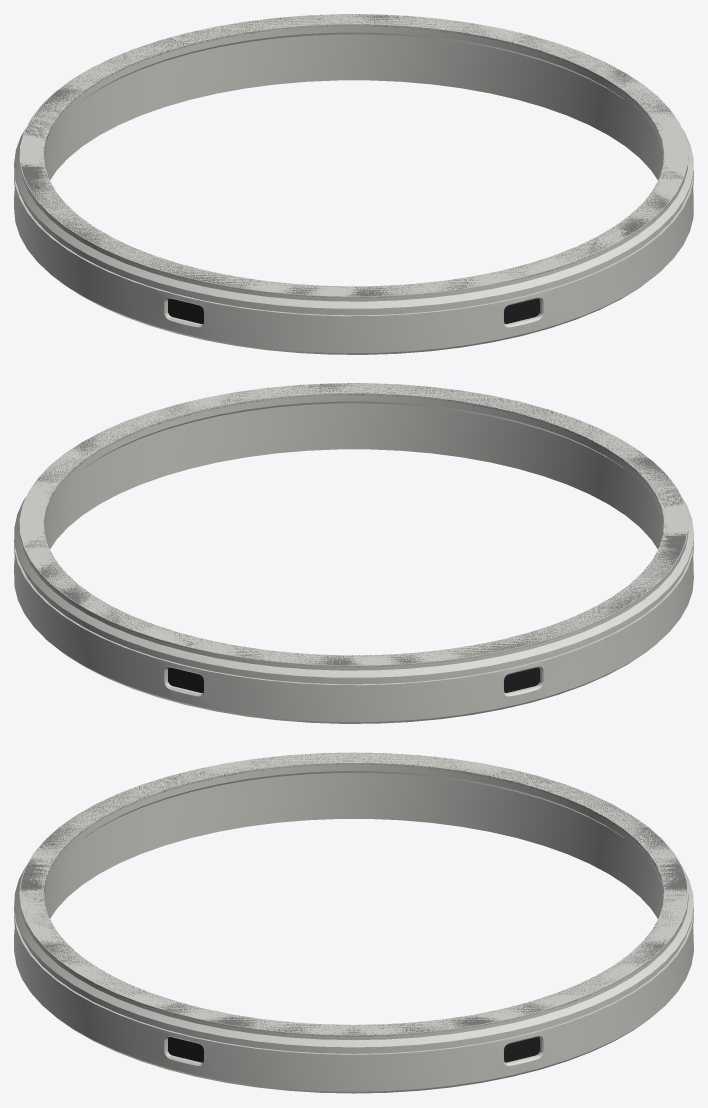
Rendered from ax_struct_10_trunk_adapter_ring.glb.
3 renders of one model, top to bottom at view 1: azimuth 30°, elevation 25°; view 2: azimuth 150°, elevation 25°; view 3: azimuth 270°, elevation 25°, orthographic.
Parts seen in each view (by area): view 1: trunk_ring, shield_land_pad, umbilical_plates; view 2: trunk_ring, shield_land_pad, umbilical_plates; view 3: trunk_ring, shield_land_pad, umbilical_plates.
Part boxes in pixels (x1=…): trunk_ring: x1=14, y1=14, x2=693, y2=354; shield_land_pad: x1=20, y1=14, x2=688, y2=297; umbilical_plates: x1=168, y1=298, x2=539, y2=323; trunk_ring: x1=14, y1=383, x2=693, y2=723; shield_land_pad: x1=19, y1=383, x2=686, y2=666; umbilical_plates: x1=168, y1=667, x2=539, y2=692; trunk_ring: x1=14, y1=752, x2=693, y2=1093; shield_land_pad: x1=19, y1=753, x2=688, y2=1036; umbilical_plates: x1=168, y1=1037, x2=539, y2=1062.
Bounding box in the file's own units: 3.75 × 0.35 × 3.75.
3 materials, 1 textured.
